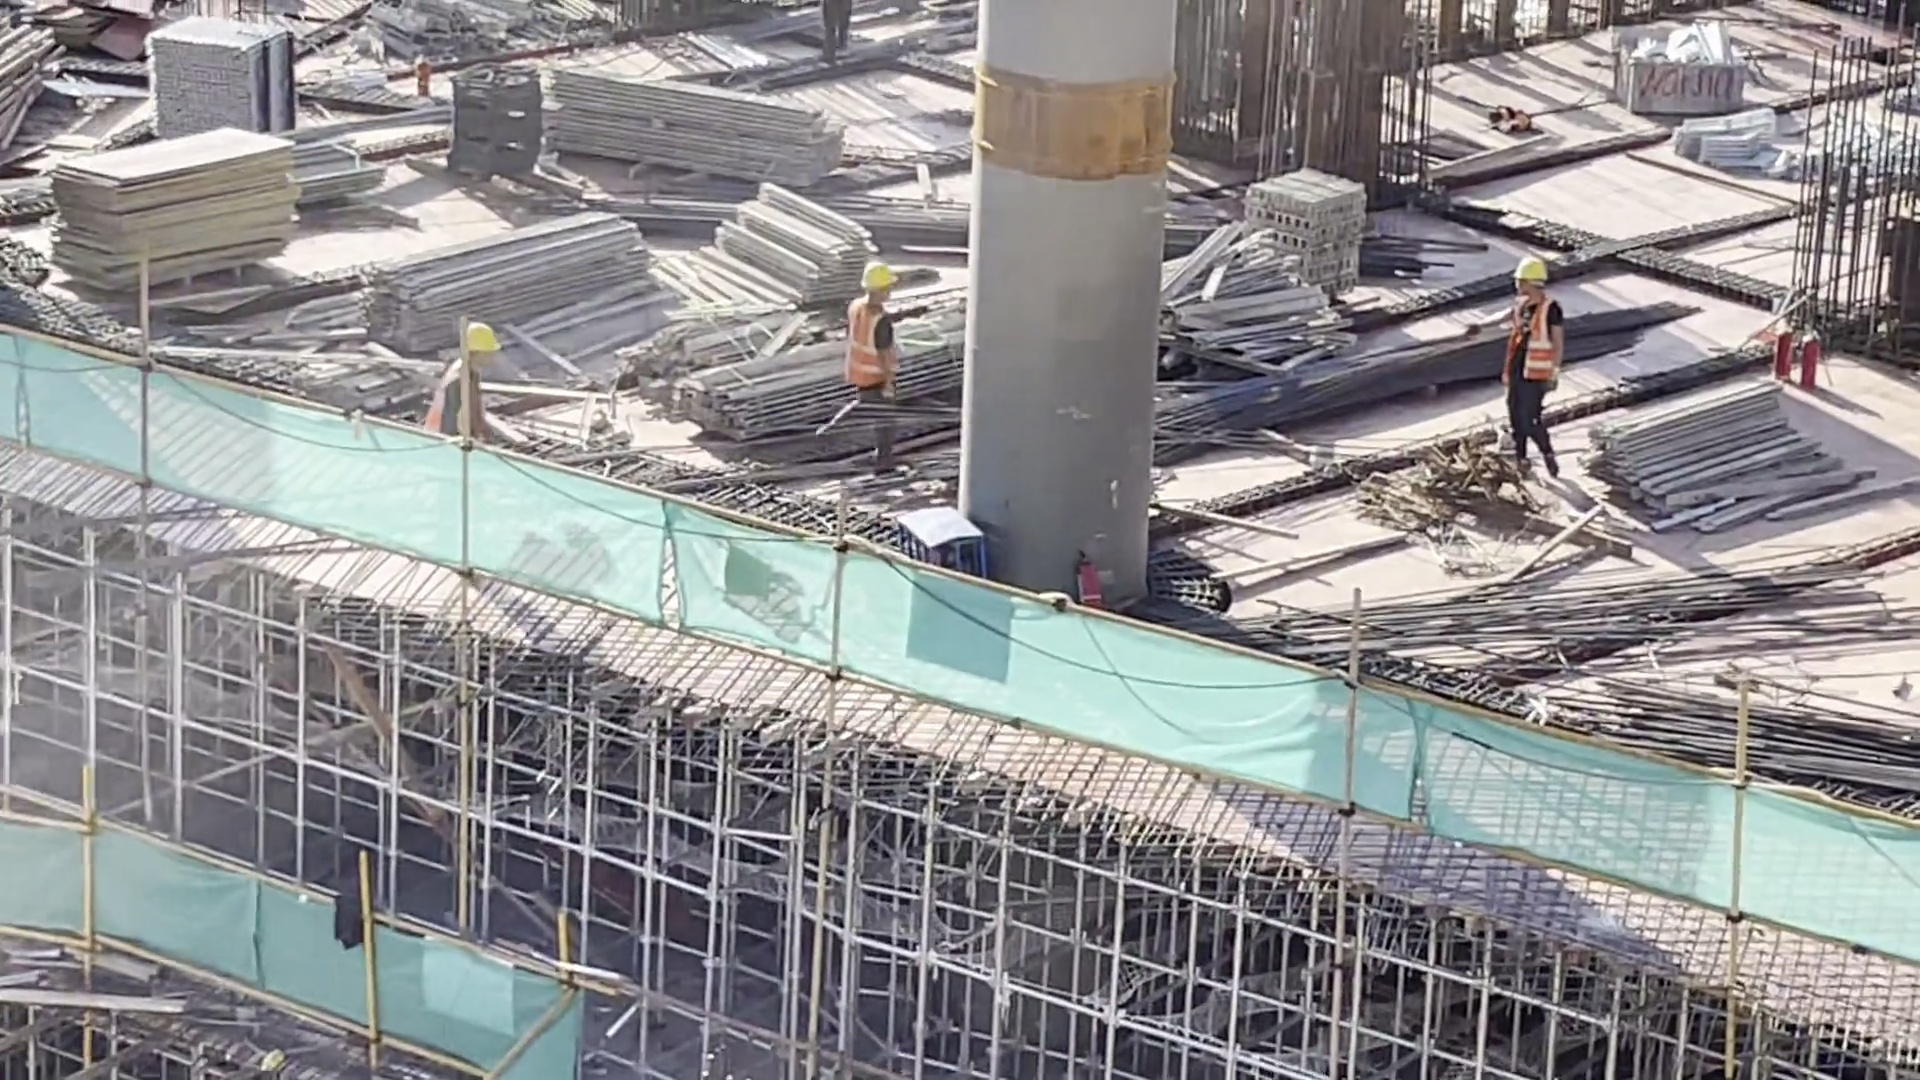board: (55, 134, 300, 282)
helmet: (460, 318, 501, 360), (1509, 252, 1550, 292), (855, 260, 897, 296)
hopper: (1617, 9, 1755, 126)
person: (830, 250, 928, 446), (1492, 253, 1581, 461), (425, 302, 506, 471)
vest: (838, 292, 893, 382), (439, 364, 487, 452), (1515, 301, 1561, 389)
wood: (529, 50, 849, 204), (351, 209, 658, 343), (1593, 357, 1841, 517), (741, 189, 858, 300)
